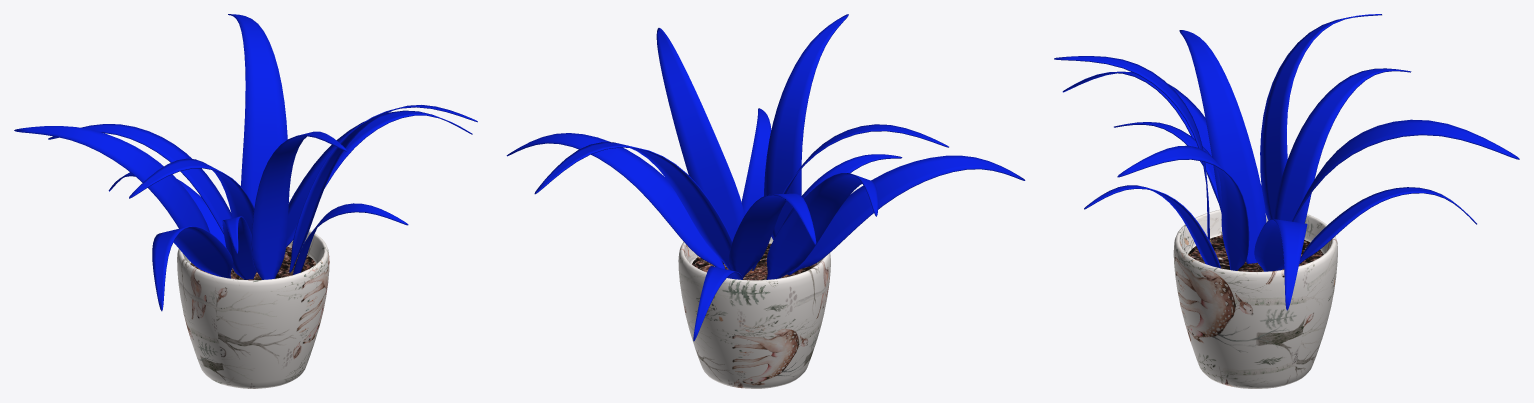
The model's file is indoorplant.fbx.
3 views of the same model, side by side, from view 1: azimuth 30°, elevation 25°; view 2: azimuth 150°, elevation 25°; view 3: azimuth 270°, elevation 25° (orthographic). The views are drawn at different scales.
Parts seen in each view (by area): view 1: flowerpot; view 2: flowerpot; view 3: flowerpot.
Boxes of the visible parts, x1,y1,x2,y2 form: flowerpot: (14,14,477,388); flowerpot: (506,14,1025,388); flowerpot: (1054,14,1519,388).
Size of the model in its own units: 571 by 375 by 515.
